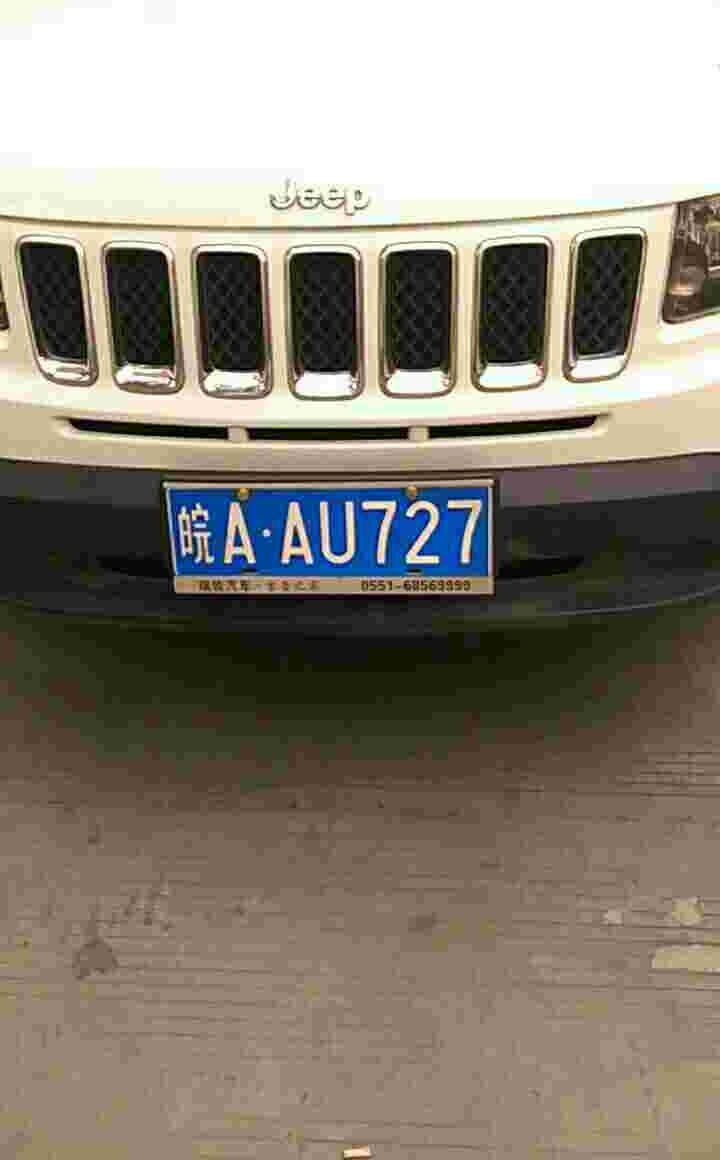license_plate: (164, 484, 499, 584)
